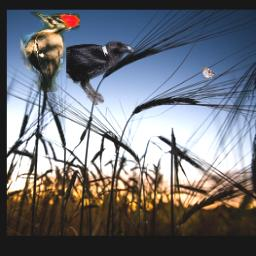Crow: (67, 41, 134, 106)
Sparrow: (202, 66, 219, 80)
Woodpecker: (19, 12, 81, 93)
